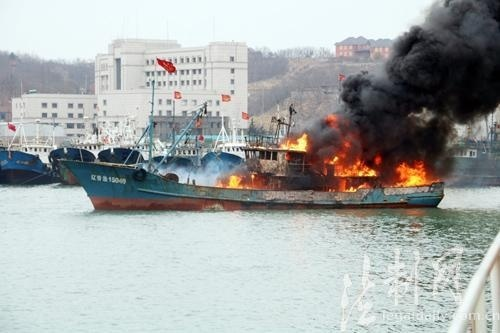fire: (327, 150, 436, 190), (218, 174, 252, 190), (280, 133, 308, 152)
